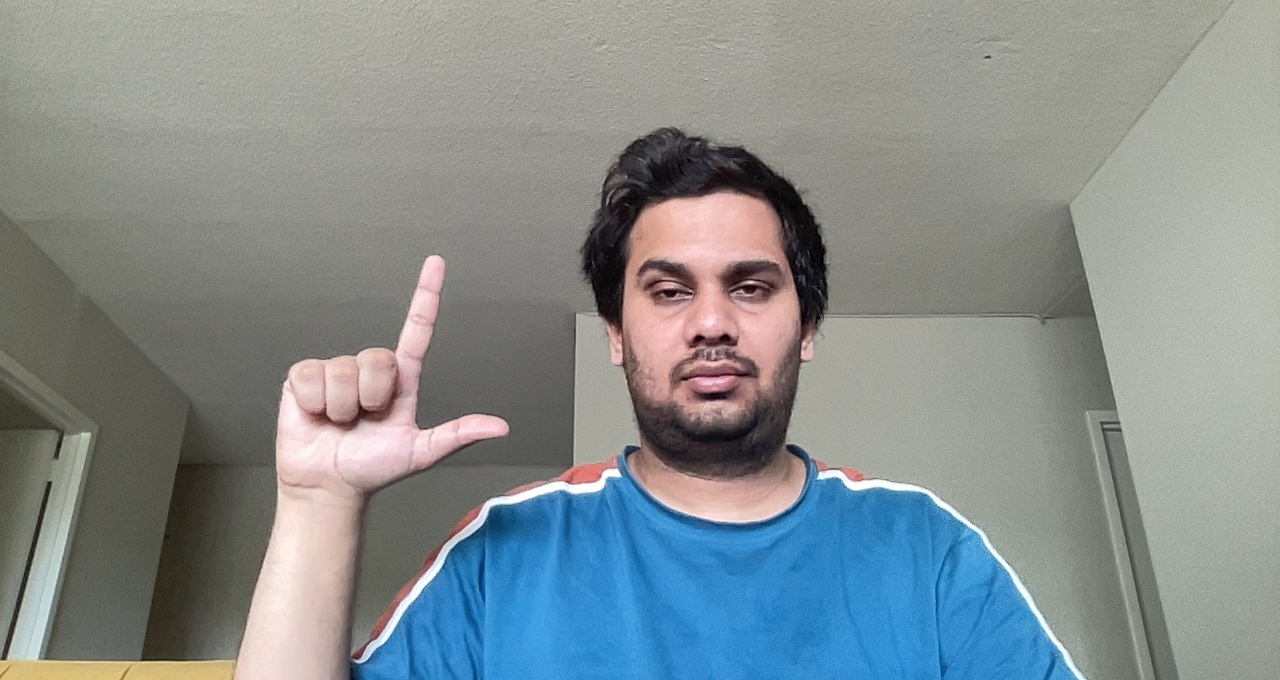L: (267, 250, 513, 489)
